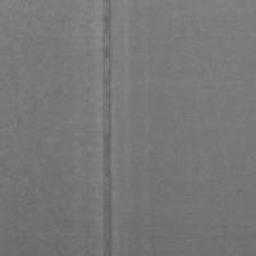Welding line: (101, 0, 114, 255)
